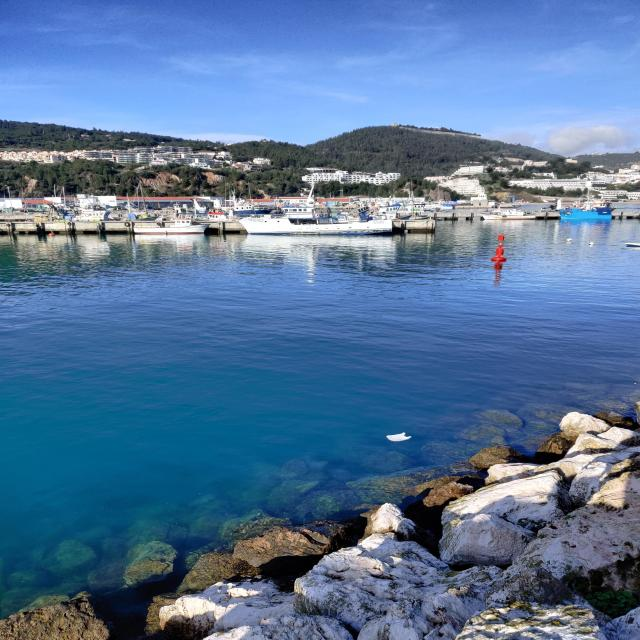litter: (386, 432, 411, 442)
